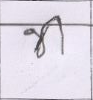i_matra: (50, 15, 68, 54)
